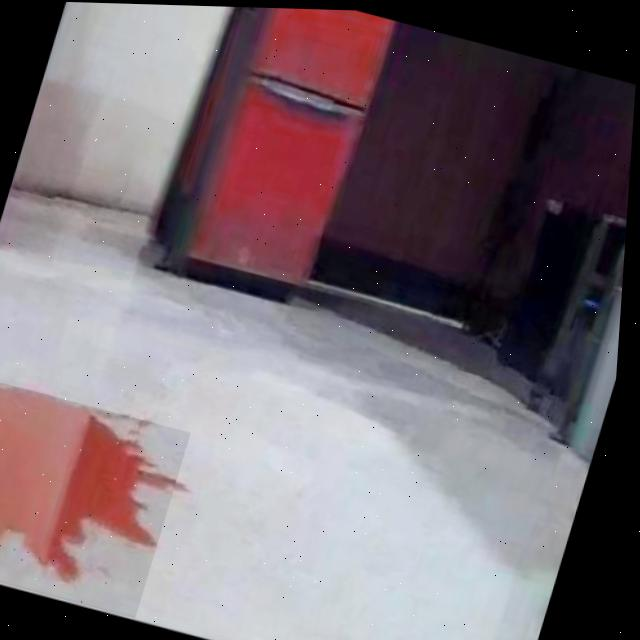spillage: (0, 389, 181, 587)
